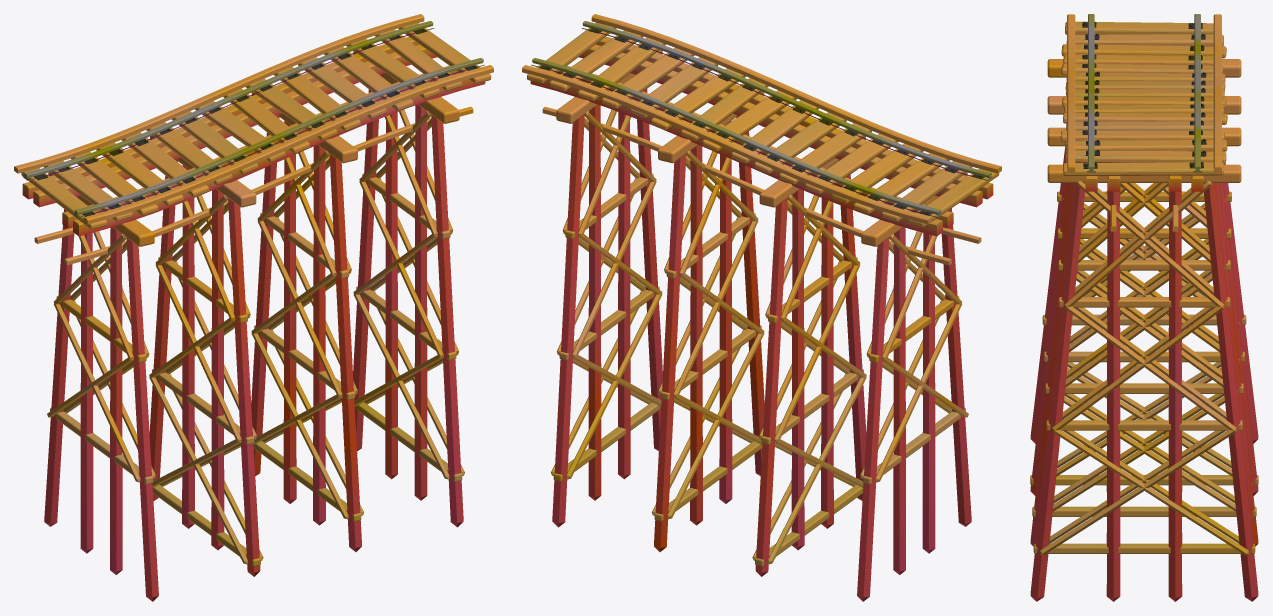
File: Track_Ramp_Up_12m.glb
3 views of the same model, side by side, from view 1: azimuth 30°, elevation 25°; view 2: azimuth 150°, elevation 25°; view 3: azimuth 270°, elevation 25° (orthographic). The views are drawn at different scales.
Parts seen in each view (by area): view 1: Track_Ramp_Up_12m; view 2: Track_Ramp_Up_12m; view 3: Track_Ramp_Up_12m.
Part boxes in pixels (left/top/right/bottom): Track_Ramp_Up_12m: left=14, top=14, right=493, bottom=601; Track_Ramp_Up_12m: left=522, top=14, right=1001, bottom=601; Track_Ramp_Up_12m: left=1030, top=14, right=1258, bottom=601.
Size of the model in its own units: 12 by 12.35 by 5.54.
